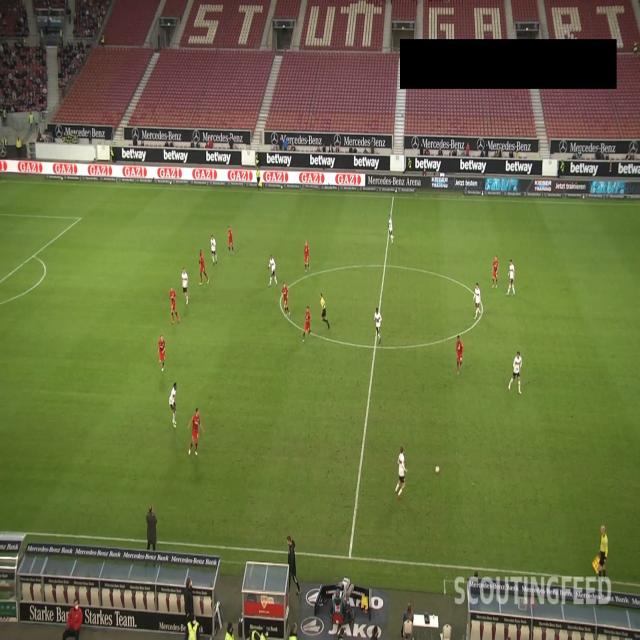ball: (435, 465, 440, 475)
